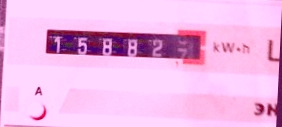1: (52, 34, 62, 52)
2: (151, 37, 164, 57)
5: (74, 35, 89, 55)
7: (175, 45, 187, 58)
8: (125, 36, 139, 57), (101, 35, 114, 56)
screen: (39, 20, 210, 69)
